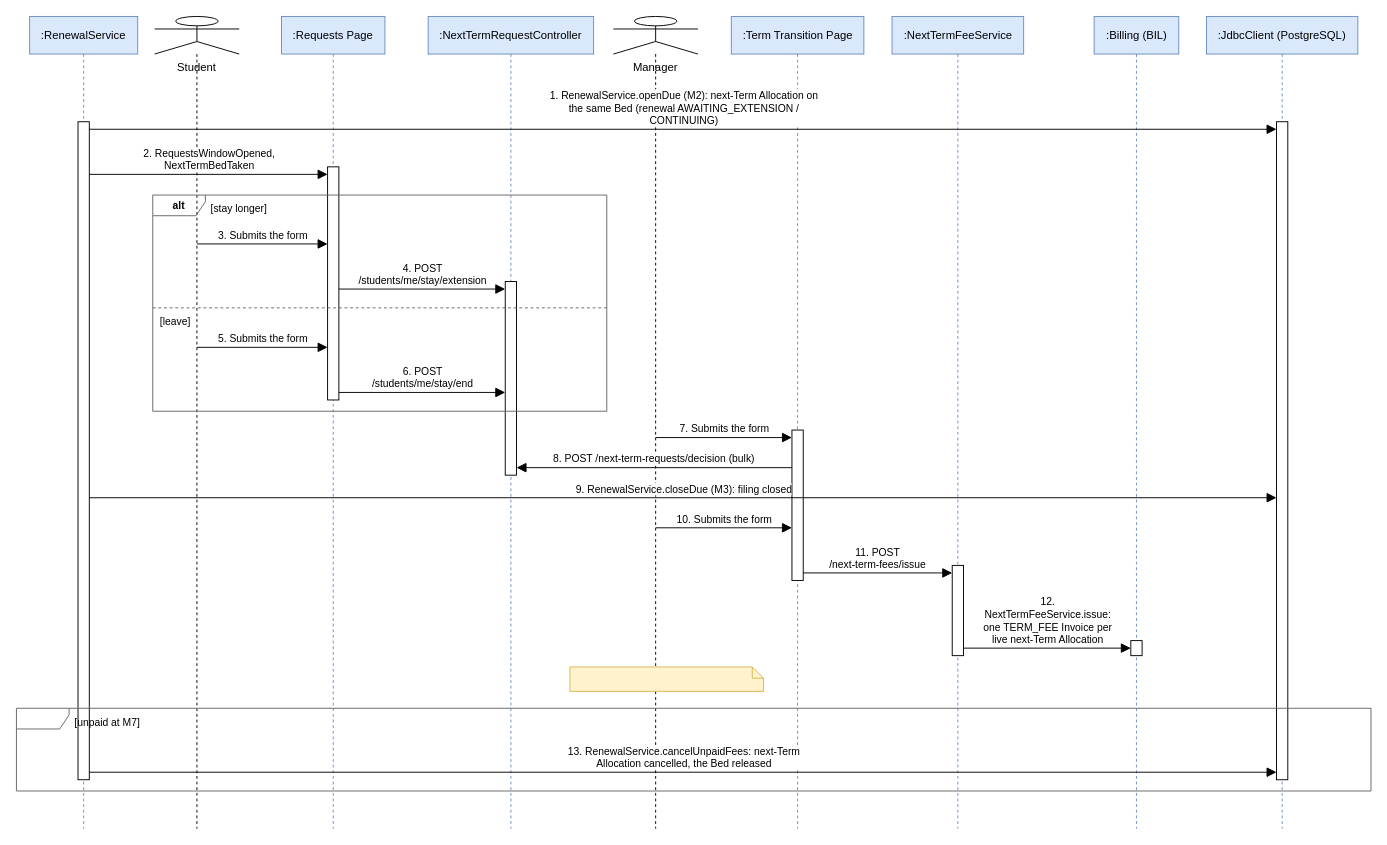
This 1387x845 diagram has some shape labels left out. Here are the shapes that lost their labels. From the top down, the centre of each, then its label:
At pixel 666 678: "Paid through a claim (sequence 04)".
At pixel 693 749: "opt".
